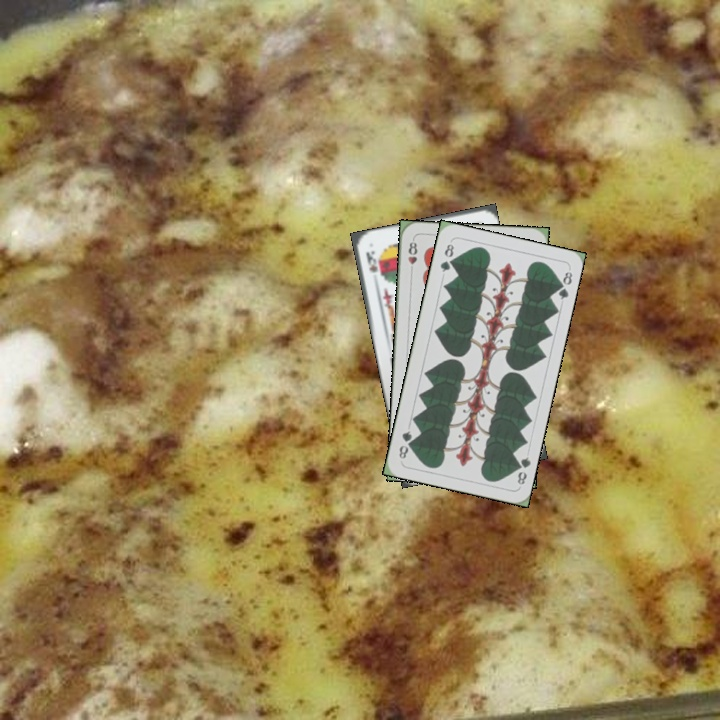G8: (511, 453, 533, 487), (436, 238, 456, 274)
H8: (404, 236, 420, 276)
SK: (362, 247, 380, 275)
